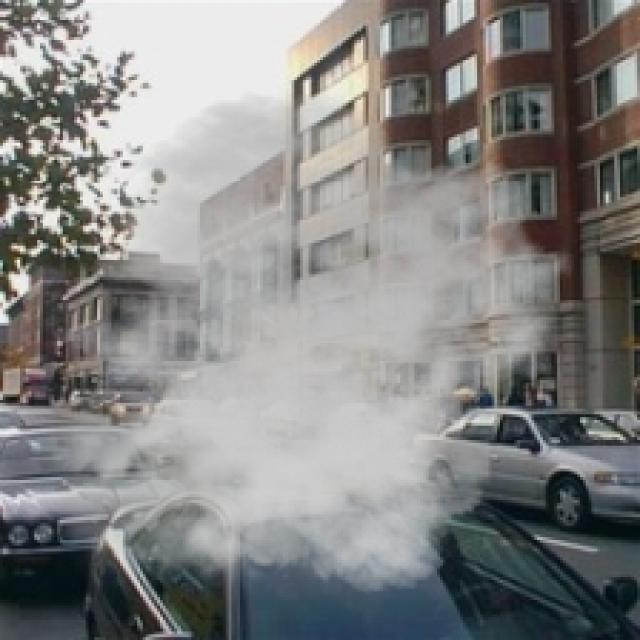smoke: (23, 91, 574, 608)
